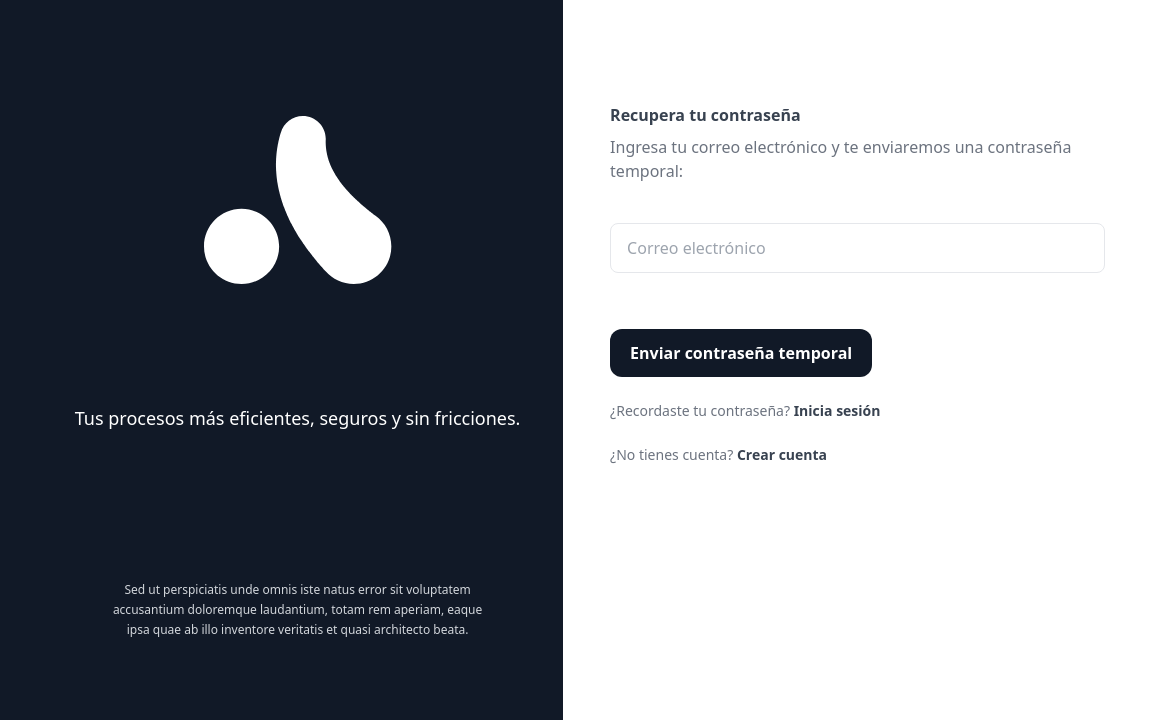
Test case: ForgotPasswordPage › errores › si no existe una cuenta con ese correo, lo avisa debajo del campo y no confirma el envío
In the field labelled "Correo electrónico": (858, 248) x1=610 y1=223 x2=1105 y2=273, type "ana@correo.com"
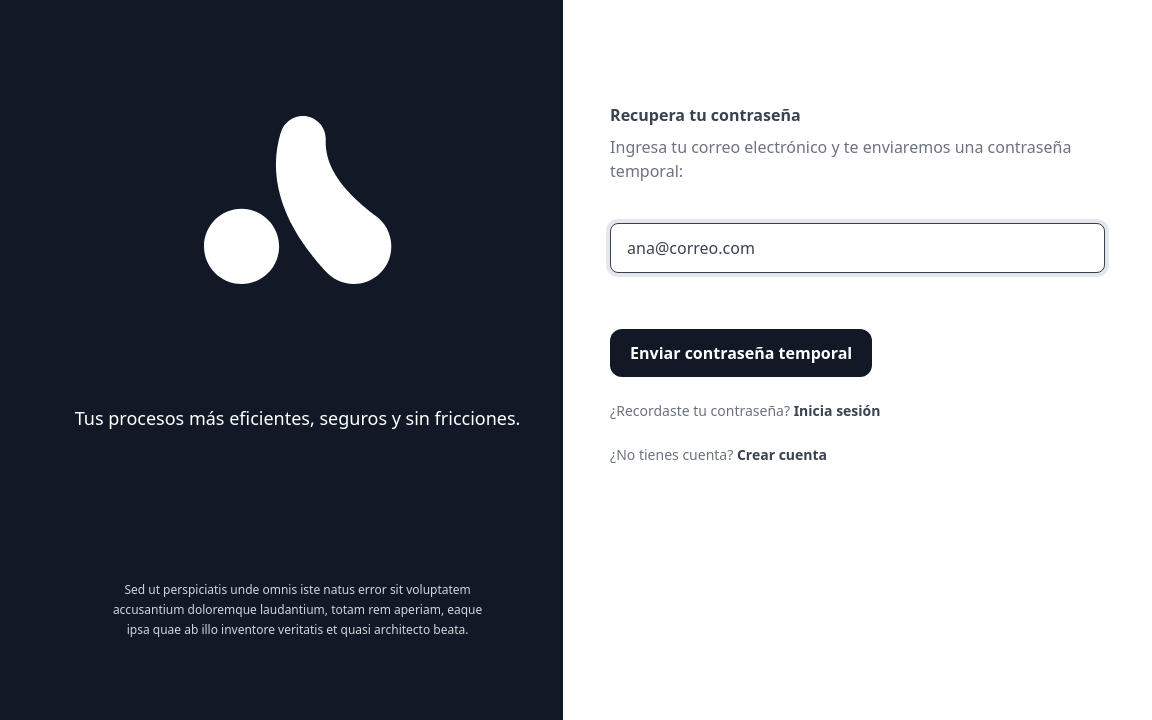
Click the button "Enviar contraseña temporal": click(741, 353) x1=610 y1=329 x2=872 y2=377
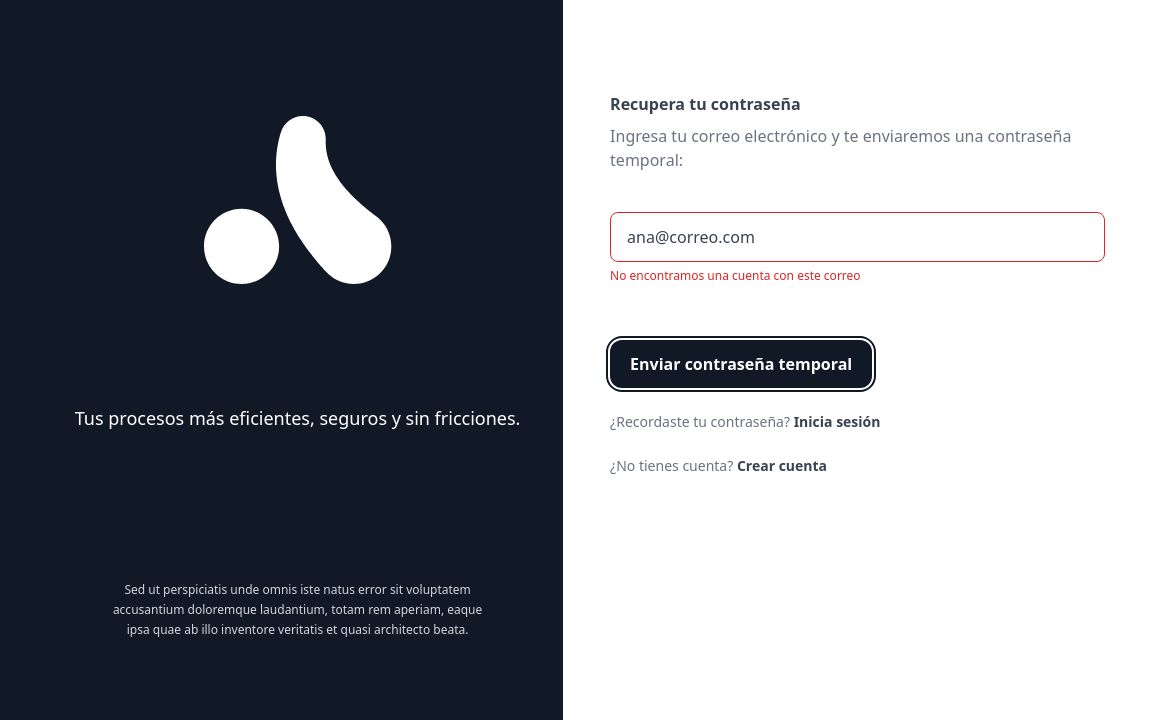
expect the button "Enviar contraseña temporal" is enabled: met, box x1=610 y1=340 x2=872 y2=388
expect the number of messages is 1: met, box x1=610 y1=267 x2=861 y2=284
